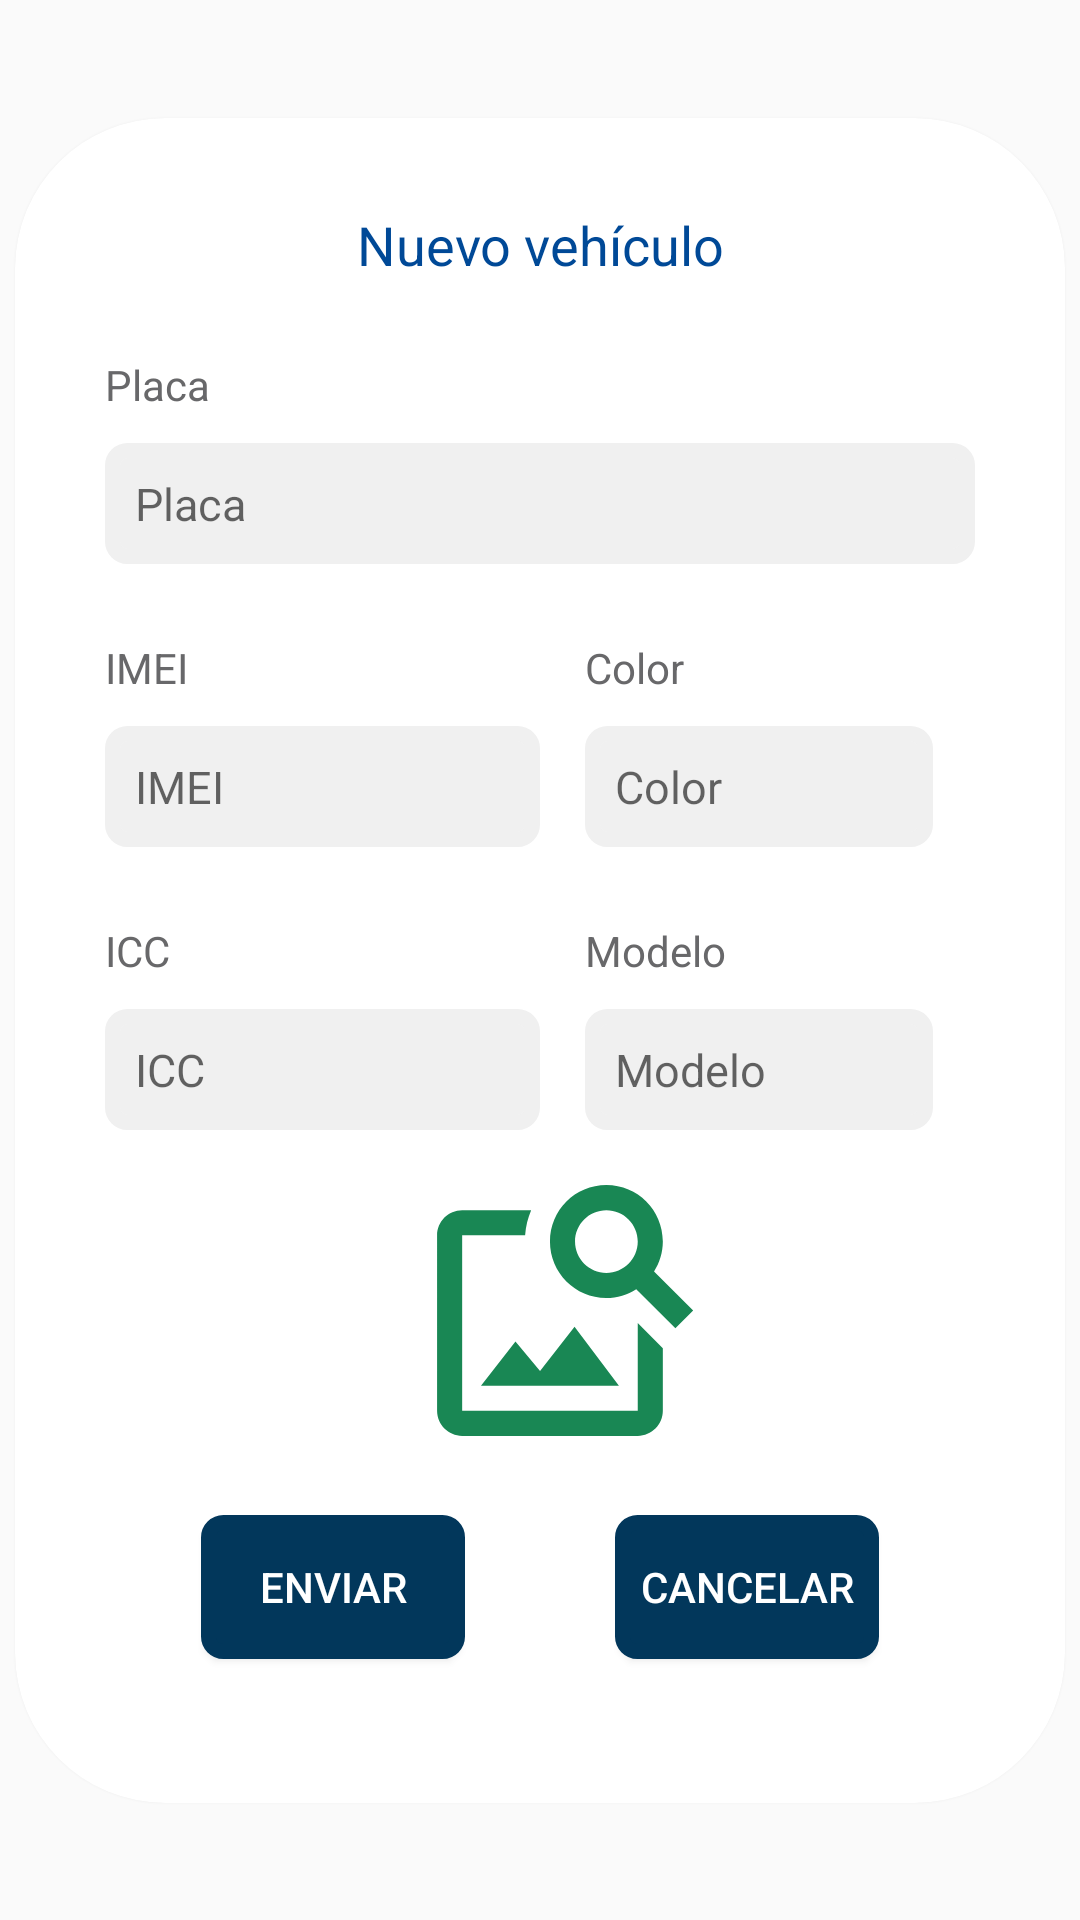

Named icons in this screenshot (1080×1920) and their centers, (x=x, y=y):
add picture: (x=565, y=1310)
